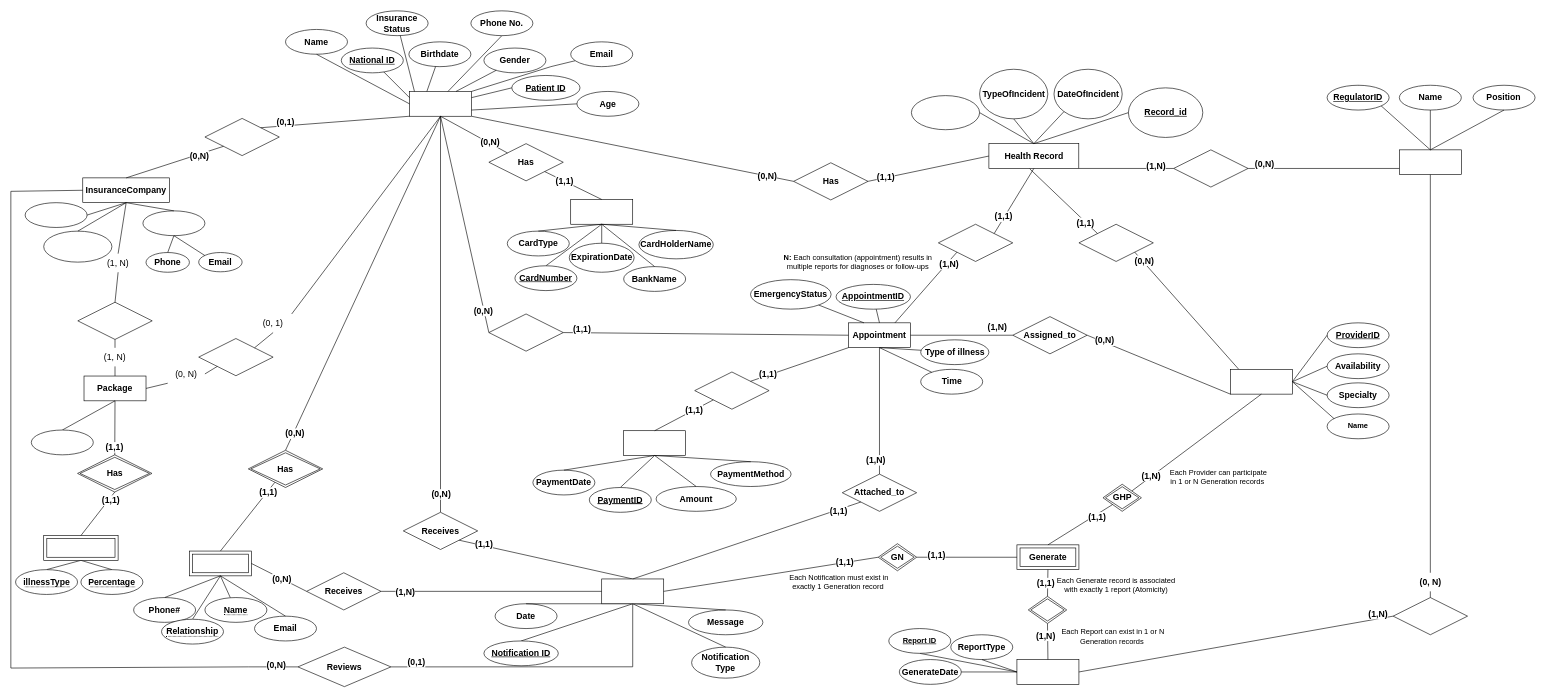
This 1546x698 diagram has some shape labels left out. The centre of each missing label's shape, as x and y in pixels:
Access: the point at 1210,168
Card: the point at 601,211
Care Giver: the point at 220,563
CompanyName: the point at 77,246
ContactInfo: the point at 173,223
Costs: the point at 731,390
Covered_by: the point at 241,137
Details: the point at 945,112
EnrolledIn: the point at 235,357
Generates: the point at 1115,242
Government Regulator: the point at 1430,162
GR: the point at 1047,609
Health Provider: the point at 1261,381
InsuranceID: the point at 55,214
Involves: the point at 975,242
Notification: the point at 632,591
Offers: the point at 114,320
PackageDetails: the point at 80,547
PackageID: the point at 62,442
Patient: the point at 440,103
Payment: the point at 654,443
Report: the point at 1047,671
Requests: the point at 525,332
Run: the point at 1430,616
